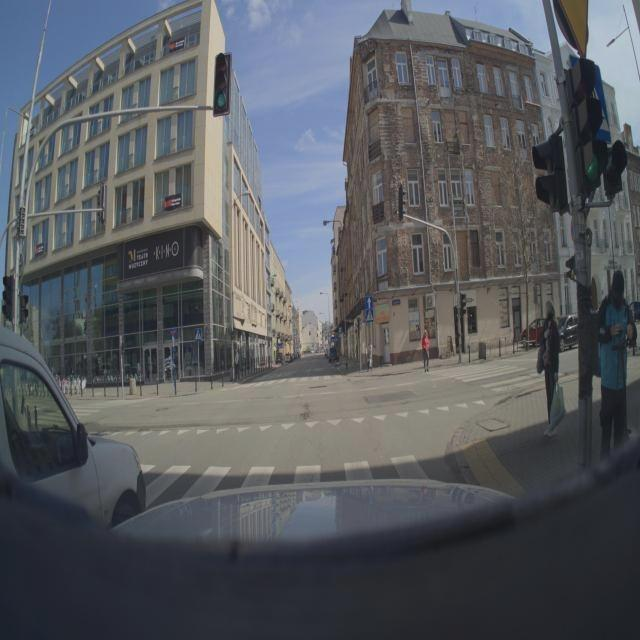Green: (211, 50, 236, 118)
